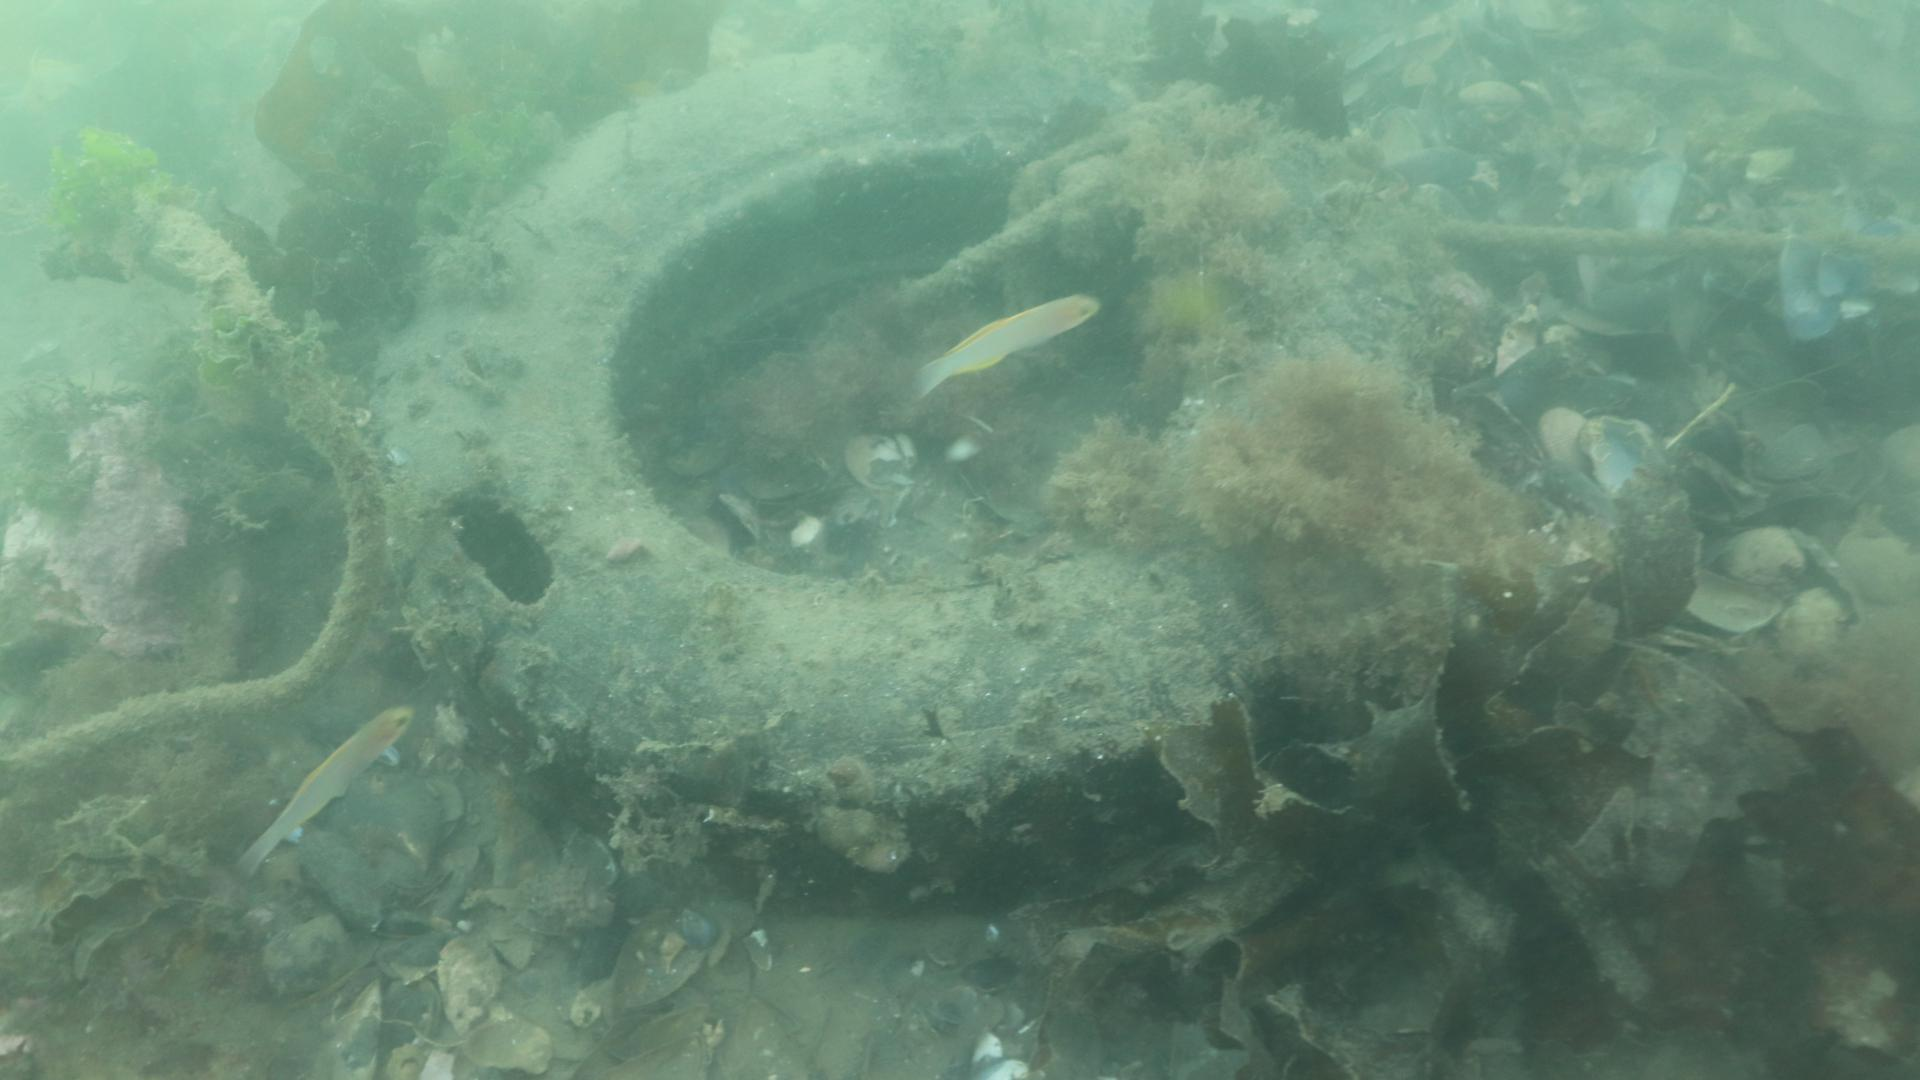rope: (0, 207, 375, 807), (1432, 215, 1920, 261), (914, 195, 1060, 303)
tire: (368, 44, 1435, 911)
